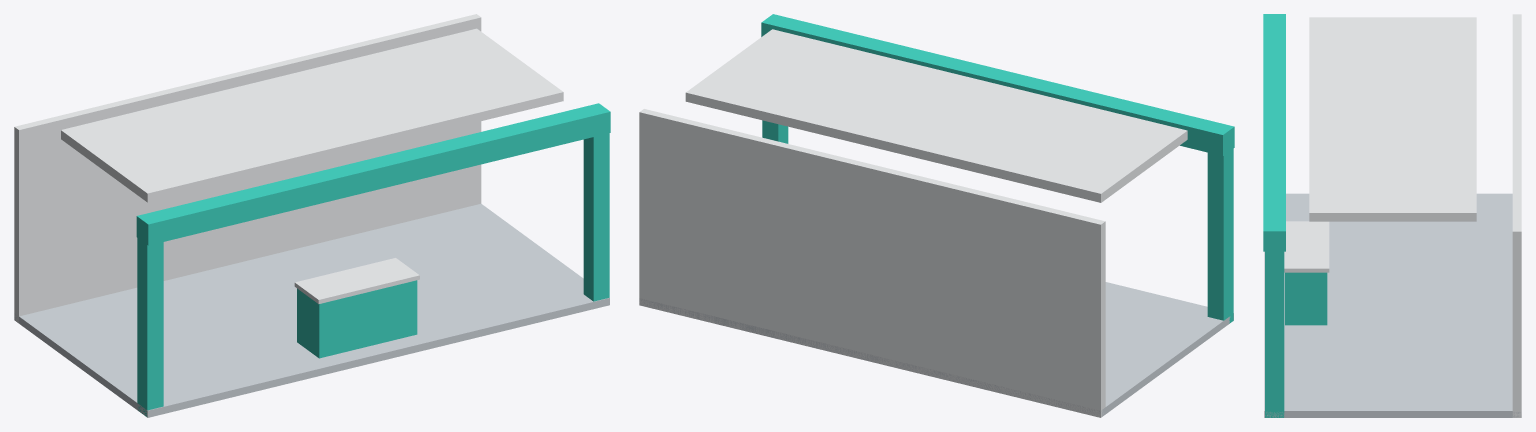
The picture shows the model from 3 angles, left to right: view 1: azimuth 30°, elevation 25°; view 2: azimuth 150°, elevation 25°; view 3: azimuth 270°, elevation 25°; orthographic projection. The views are drawn at different scales.
Visible parts, largest first — view 1: Exhibition Booth Concept; view 2: Exhibition Booth Concept; view 3: Exhibition Booth Concept.
Part boxes in pixels (bbox=[...]): Exhibition Booth Concept: bbox=[14, 14, 610, 417]; Exhibition Booth Concept: bbox=[639, 14, 1234, 417]; Exhibition Booth Concept: bbox=[1263, 14, 1521, 417].
Bounding box in the file's own units: 8 × 3.34 × 4.02.
